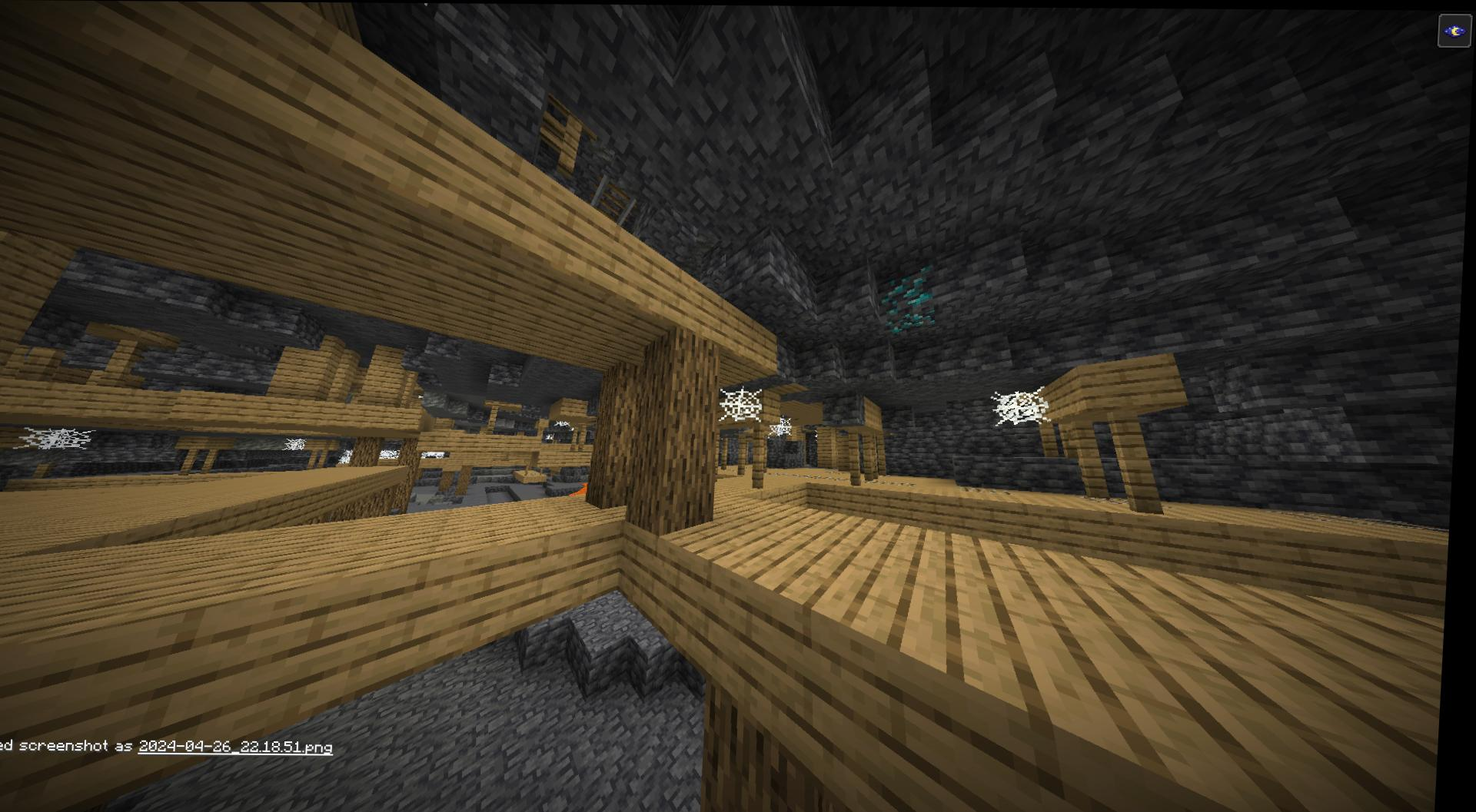diamond ore: (879, 263, 943, 334)
